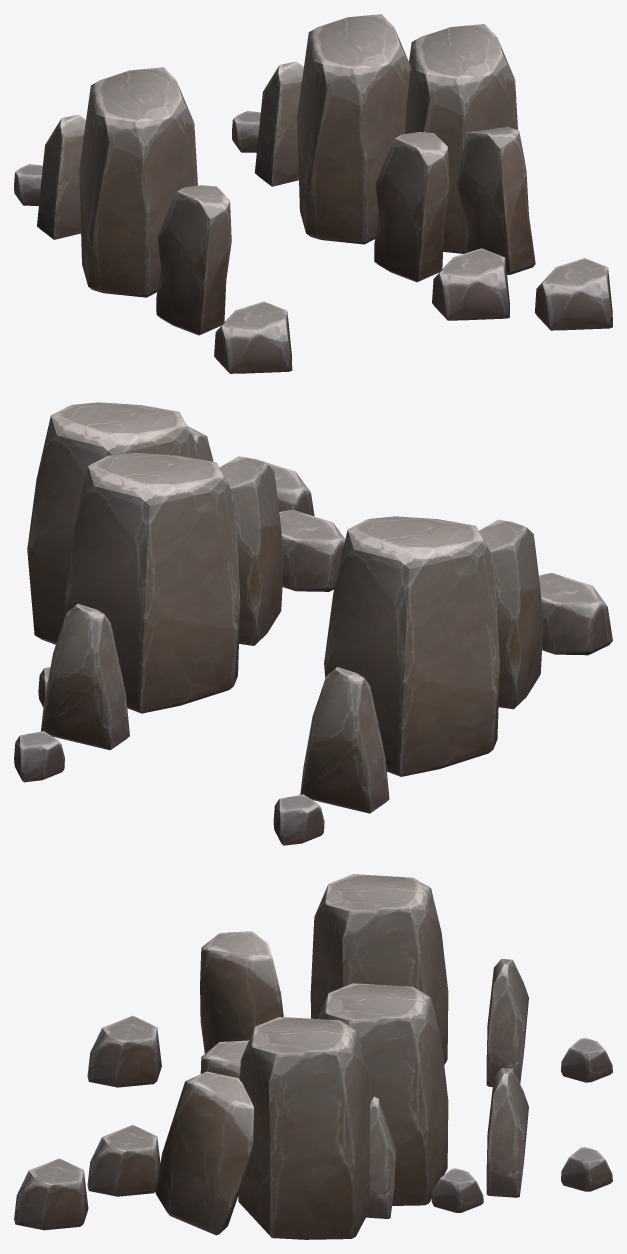
Rendered from stone...fbx.
3 views of the same model, one above another, from view 1: azimuth 30°, elevation 25°; view 2: azimuth 150°, elevation 25°; view 3: azimuth 270°, elevation 25° (orthographic). The views are drawn at different scales.
Visible parts, largest first — view 1: Stone_5_Low.002, Stone_5_Low.001, Stone_5_Low, Stone_4_Low.002, Stone_4_Low.001, Stone_4_Low, Stone_2_Low, Stone_2_Low.002, Stone_2_Low.001, Stone_3_Low.001, Stone_3_Low.002, Stone_1_Low.001 (+1 smaller); view 2: Stone_5_Low.002, Stone_5_Low.001, Stone_5_Low, Stone_3_Low.002, Stone_3_Low.001, Stone_4_Low.002, Stone_4_Low.001, Stone_2_Low.002, Stone_2_Low.001, Stone_1_Low.002, Stone_1_Low.001, Stone_2_Low; view 3: Stone_5_Low, Stone_5_Low.001, Stone_5_Low.002, Stone_4_Low, Stone_4_Low.002, Stone_3_Low.001, Stone_2_Low.002, Stone_2_Low, Stone_2_Low.001, Stone_3_Low.002, Stone_3_Low, Stone_1_Low (+3 smaller).
Part boxes in pixels (bbox=[...]): Stone_5_Low.002: bbox=[79, 67, 197, 297]; Stone_5_Low.001: bbox=[297, 14, 410, 244]; Stone_5_Low: bbox=[405, 24, 517, 253]; Stone_4_Low.002: bbox=[156, 185, 231, 335]; Stone_4_Low.001: bbox=[374, 132, 449, 282]; Stone_4_Low: bbox=[456, 126, 535, 274]; Stone_2_Low: bbox=[535, 258, 612, 330]; Stone_2_Low.002: bbox=[214, 301, 292, 373]; Stone_2_Low.001: bbox=[432, 248, 509, 320]; Stone_3_Low.001: bbox=[255, 61, 303, 186]; Stone_3_Low.002: bbox=[37, 114, 85, 239]; Stone_1_Low.001: bbox=[232, 111, 260, 152]; Stone_5_Low.002: bbox=[324, 516, 499, 776]; Stone_5_Low.001: bbox=[64, 453, 240, 713]; Stone_5_Low: bbox=[27, 402, 197, 644]; Stone_3_Low.002: bbox=[300, 667, 389, 813]; Stone_3_Low.001: bbox=[41, 603, 129, 750]; Stone_4_Low.002: bbox=[479, 519, 543, 709]; Stone_4_Low.001: bbox=[219, 456, 283, 645]; Stone_2_Low.002: bbox=[539, 573, 612, 655]; Stone_2_Low.001: bbox=[279, 509, 345, 591]; Stone_1_Low.002: bbox=[273, 794, 324, 845]; Stone_1_Low.001: bbox=[14, 731, 64, 782]; Stone_2_Low: bbox=[254, 459, 314, 516]; Stone_5_Low: bbox=[238, 1017, 370, 1239]; Stone_5_Low.001: bbox=[317, 983, 448, 1205]; Stone_5_Low.002: bbox=[310, 874, 448, 1064]; Stone_4_Low: bbox=[155, 1071, 253, 1235]; Stone_4_Low.002: bbox=[200, 931, 283, 1053]; Stone_3_Low.001: bbox=[486, 1068, 528, 1197]; Stone_2_Low.002: bbox=[87, 1015, 161, 1087]; Stone_2_Low: bbox=[14, 1158, 88, 1230]; Stone_2_Low.001: bbox=[87, 1125, 160, 1196]; Stone_3_Low.002: bbox=[486, 959, 528, 1086]; Stone_3_Low: bbox=[366, 1096, 396, 1218]; Stone_1_Low: bbox=[431, 1168, 483, 1212].
Size of the model in its own units: 7.39 by 3.39 by 9.39.
